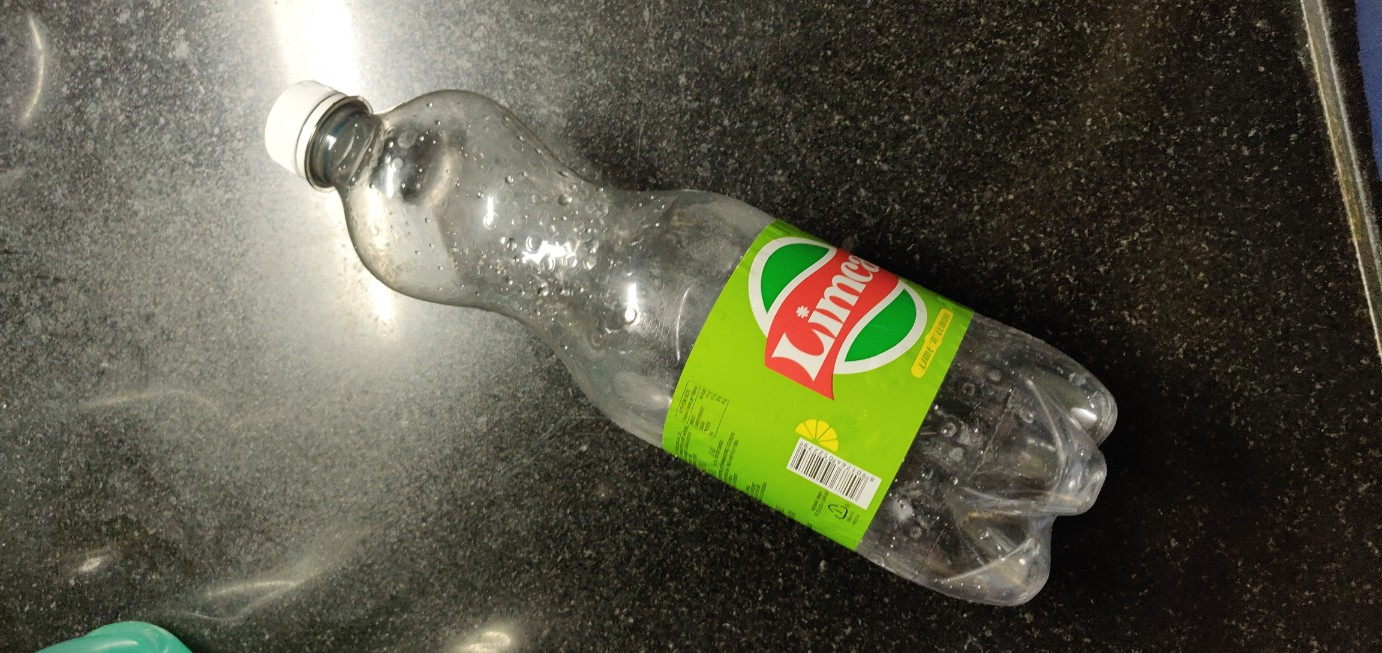Electronics: (242, 63, 1144, 631)
